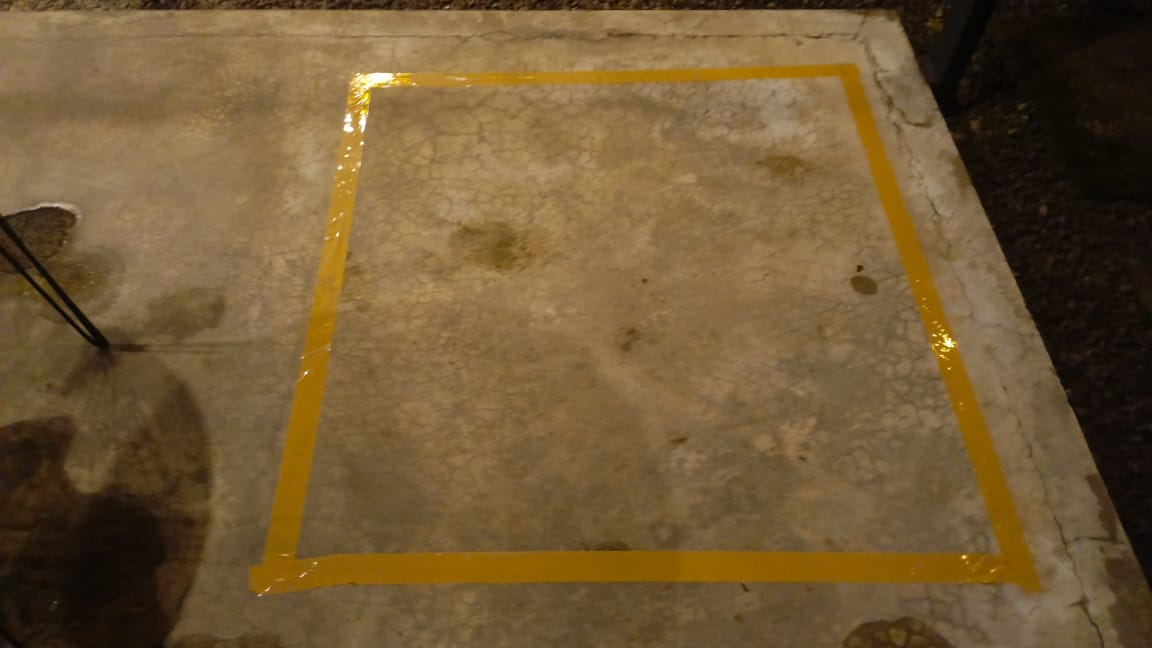floor marking: (249, 63, 1040, 595)
